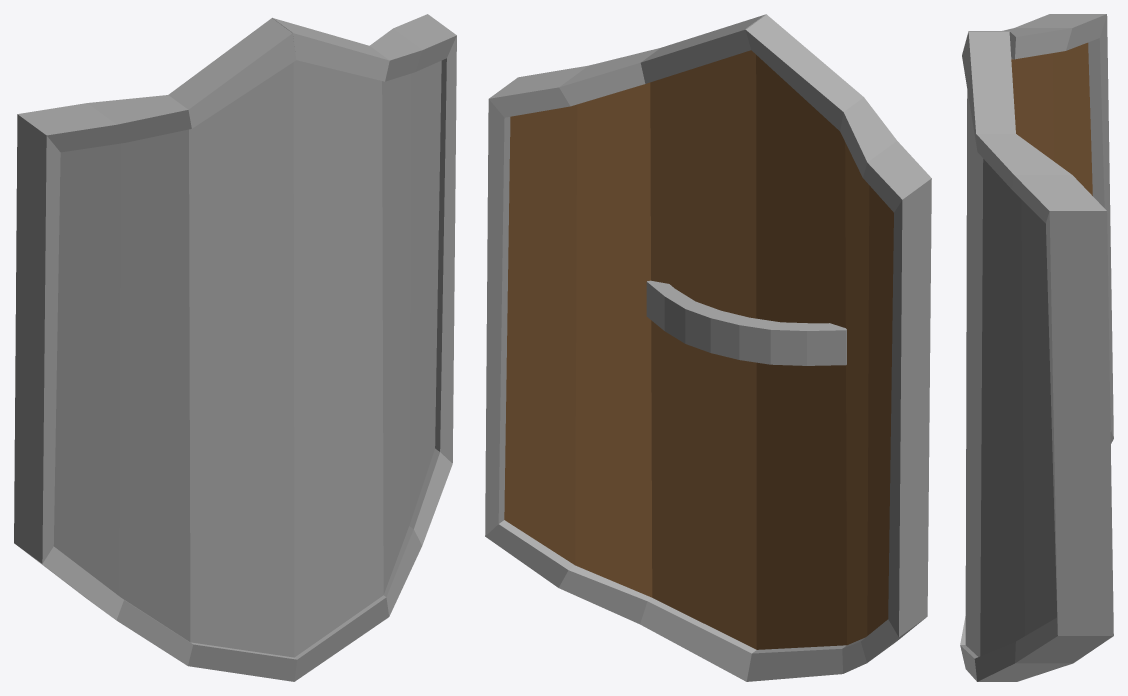
Rendered from armor_10355beb.glb.
The picture shows the model from 3 angles, left to right: view 1: azimuth 30°, elevation 25°; view 2: azimuth 150°, elevation 25°; view 3: azimuth 270°, elevation 25°; orthographic projection. The views are drawn at different scales.
Visible parts, largest first — view 1: Cube.001_0; view 2: Cube.002_1, Cube.001_0; view 3: Cube.001_0, Cube.002_1.
Part boxes in pixels (<box>): Cube.001_0: <box>14,14,456,681</box>; Cube.002_1: <box>504,50,893,649</box>; Cube.001_0: <box>485,14,931,681</box>; Cube.001_0: <box>960,14,1113,681</box>; Cube.002_1: <box>1011,42,1092,195</box>.
Size of the model in its own units: 2.12 by 3.21 by 0.7002.
